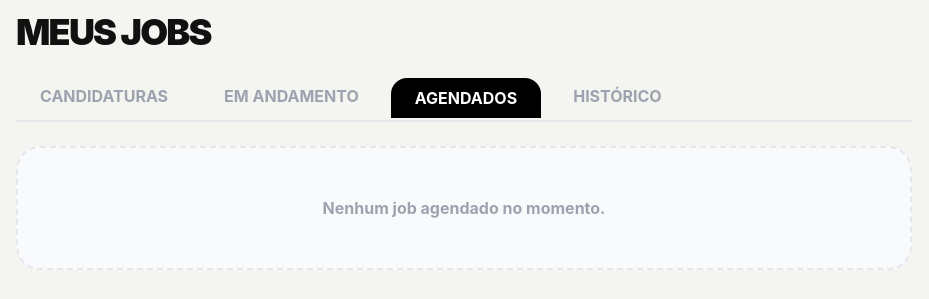
Scenario: MyJobs - Tabs de status › troca de tab ao clicar e mostra jobs corretos
The width and height of the screenshot is (929, 299).
# Click on Candidaturas tab
Click the button "Candidaturas" at (104, 96), box [16,76,192,116]
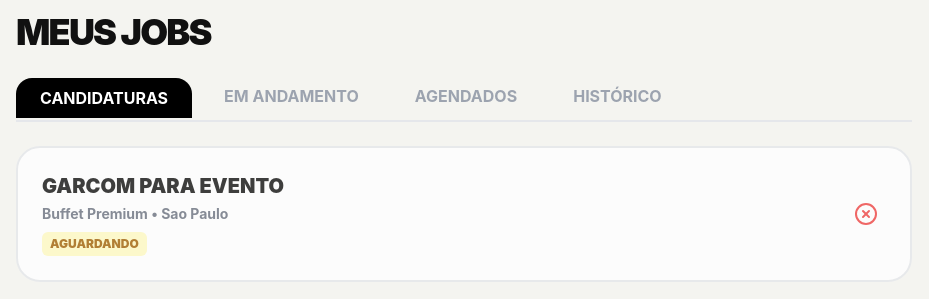
Now the heading "Garcom para Evento" is shown, box [42,172,284,200]
# Click on History tab
Click the button "Histórico" at (617, 96), box [549,76,686,116]
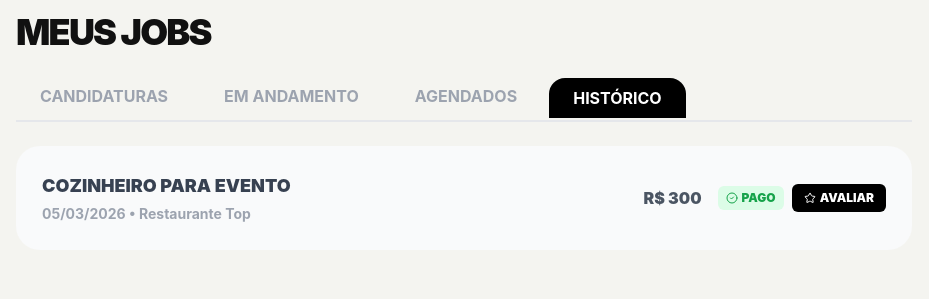
Now the heading "Cozinheiro para Evento" is shown, box [42,172,291,200]
